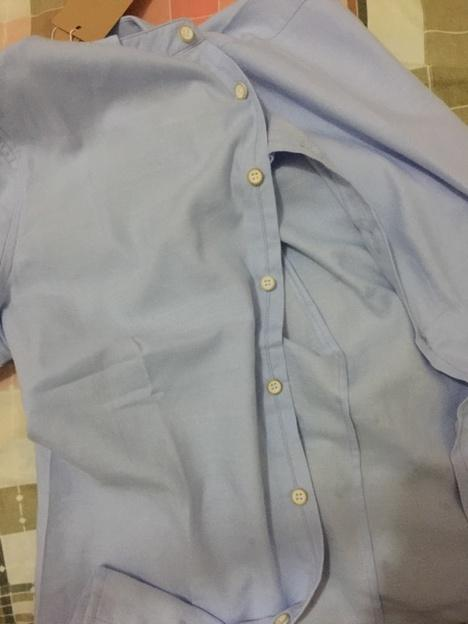C_shirt: (1, 2, 468, 621)
